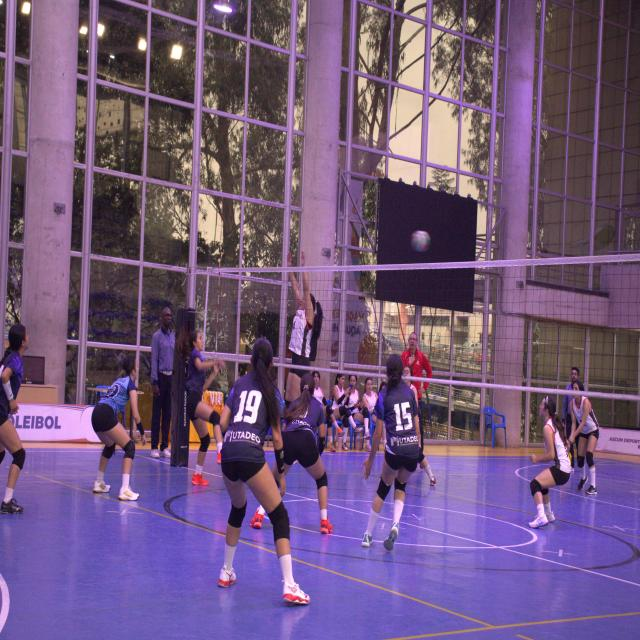volleyball: (410, 230, 430, 250)
